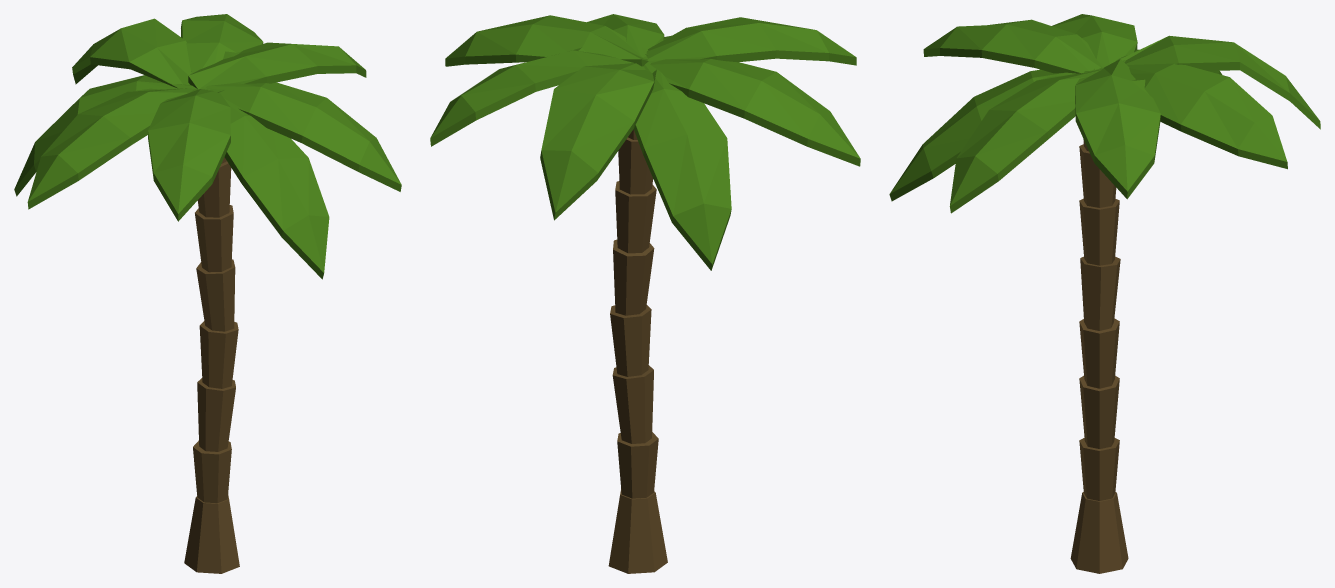
The model's file is Palme4.fbx.
3 renders of one model, left to right at view 1: azimuth 30°, elevation 25°; view 2: azimuth 150°, elevation 25°; view 3: azimuth 270°, elevation 25°, orthographic. The views are drawn at different scales.
Visible parts, largest first — view 1: Blatt_1, Stamm_1; view 2: Blatt_1, Stamm_1; view 3: Blatt_1, Stamm_1.
Part boxes in pixels (x1=…): Blatt_1: x1=14, y1=14, x2=401, y2=279; Stamm_1: x1=184, y1=157, x2=239, y2=573; Blatt_1: x1=430, y1=14, x2=860, y2=270; Stamm_1: x1=608, y1=129, x2=667, y2=573; Blatt_1: x1=889, y1=14, x2=1320, y2=213; Stamm_1: x1=1070, y1=139, x2=1128, y2=573.
Size of the model in its own units: 1481 by 1915 by 1478.
